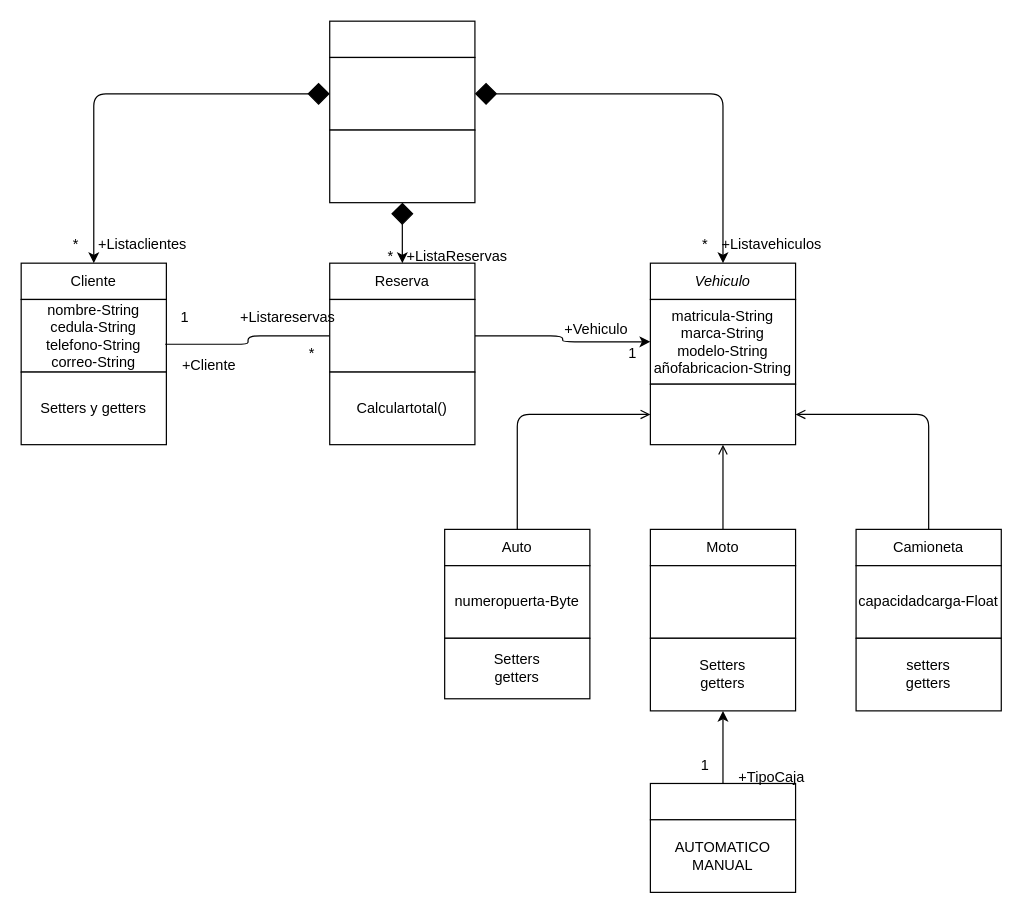
The diagram is 1022 pixels wide and 914 high, and some of its shapes have lost their labels. Each missing label, with the box of its shape:
Caja: (649, 782, 796, 820)
CRUD Hacerreserva(vehiculo,dias,cliente): (329, 129, 475, 203)
dias-int total-float: (329, 298, 475, 372)
Empresa: (329, 20, 475, 57)
nombre-String: (329, 56, 475, 130)
Setters getters Calcularcosto(dias): (649, 383, 796, 445)
